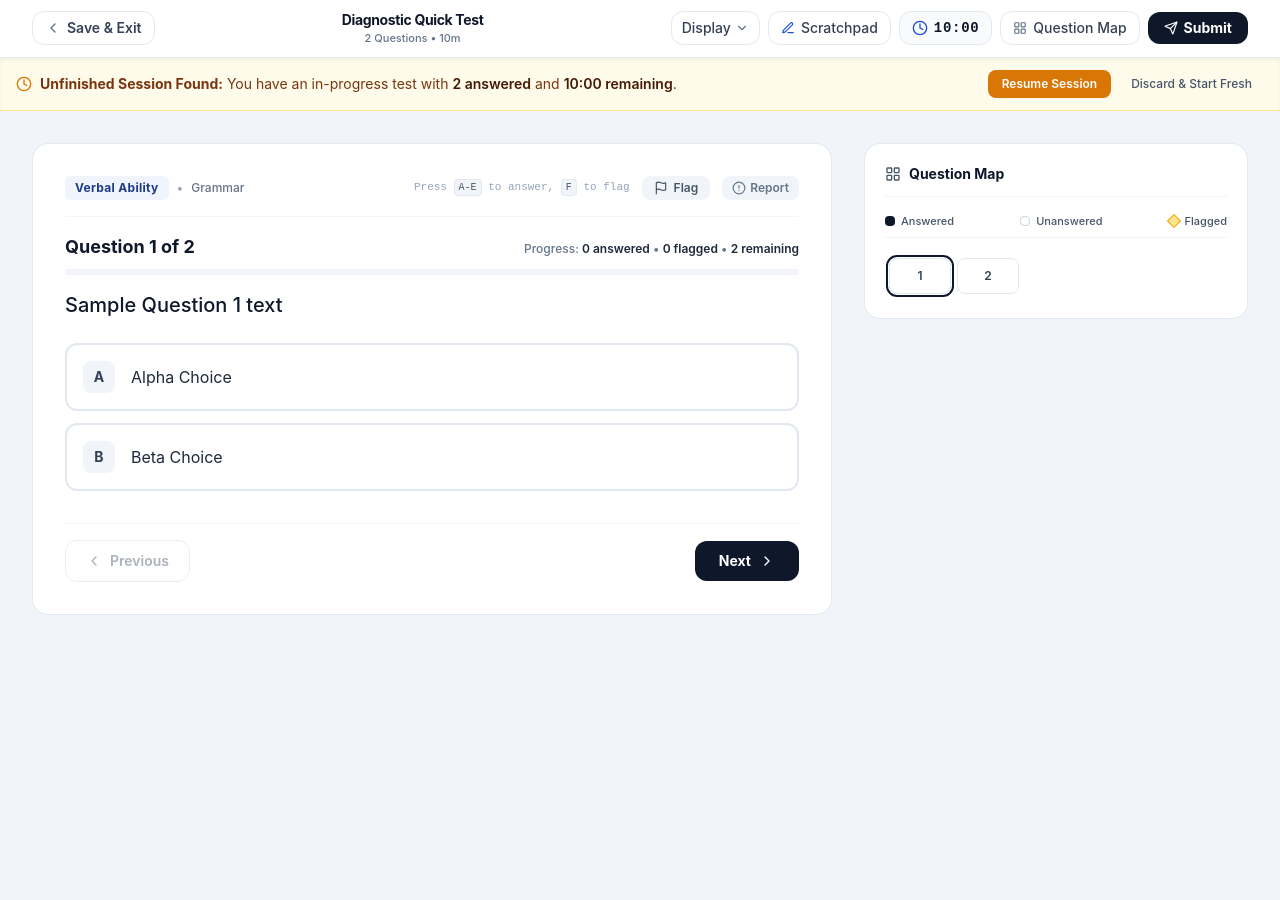
Test: ExamRunner Component › selects choices and updates progress hierarchy
Check: the text "0 answered" is shown, box [582, 240, 650, 256]
Check: the text "2 remaining" is shown, box [731, 240, 799, 256]
Click the text "Alpha Choice" at (181, 376), box [131, 366, 232, 386]
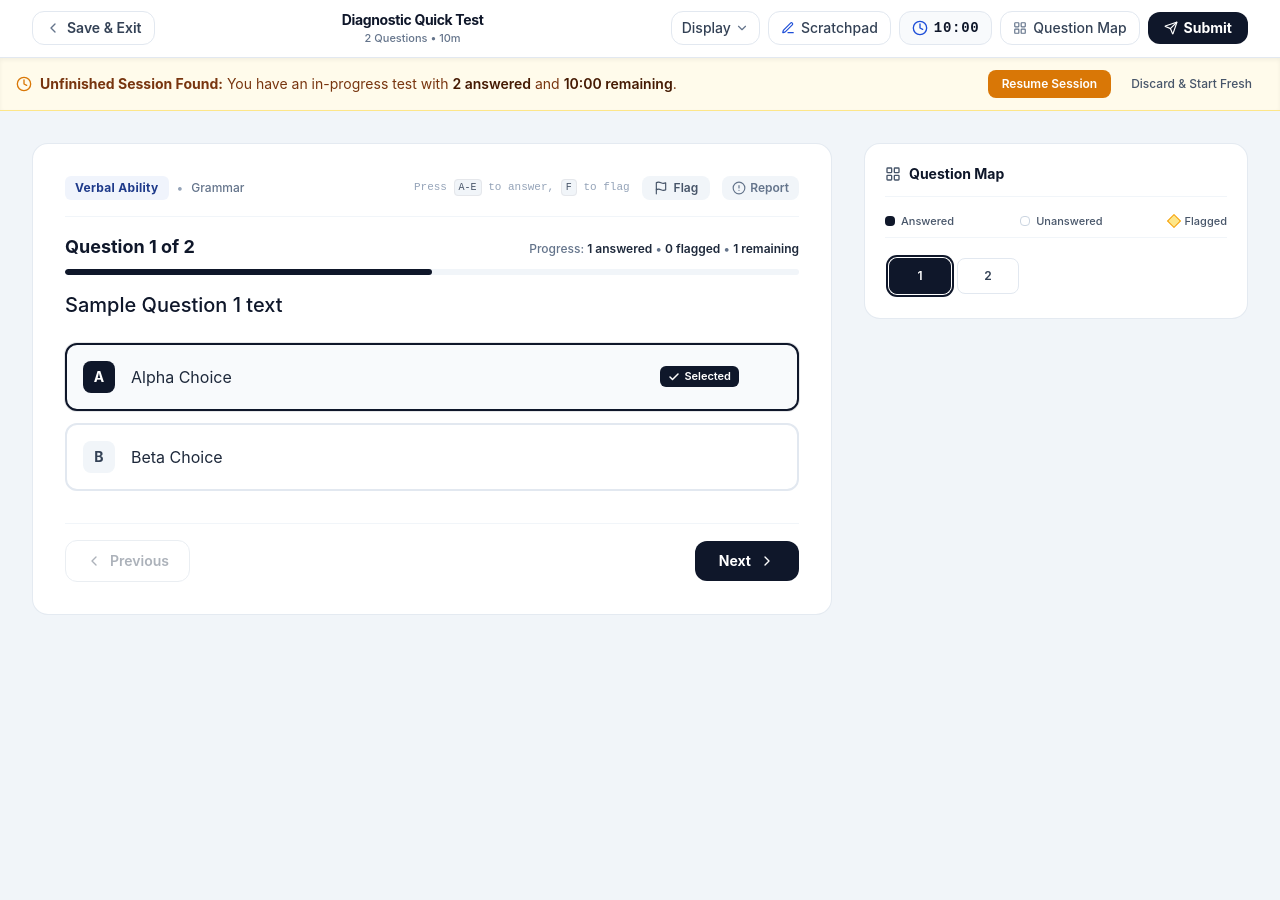
Check: the text "1 answered" is shown, box [587, 240, 652, 256]
Check: the text "1 remaining" is shown, box [733, 240, 799, 256]
Check: the text "Selected" is shown, box [684, 368, 731, 385]
